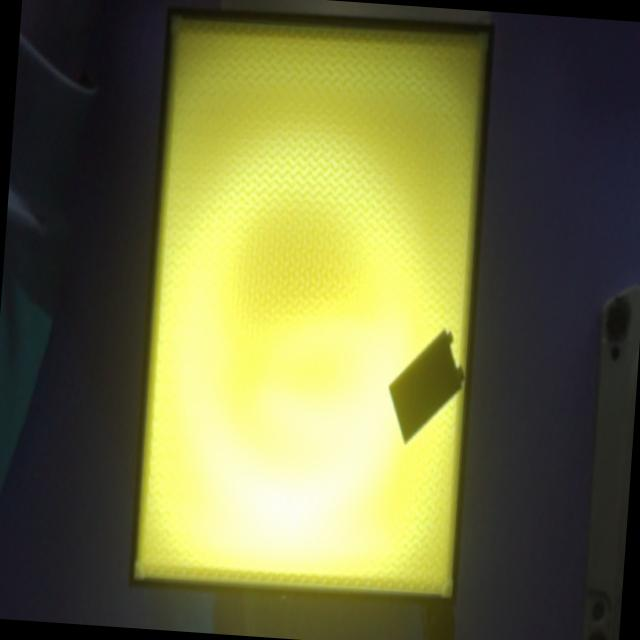bateria: (387, 330, 463, 443)
mesa: (129, 6, 494, 607)
